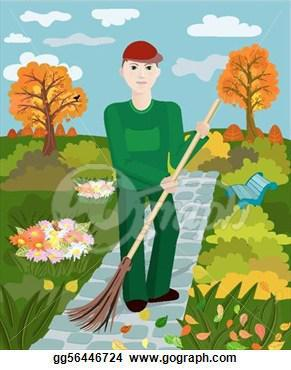person: (101, 39, 214, 315)
